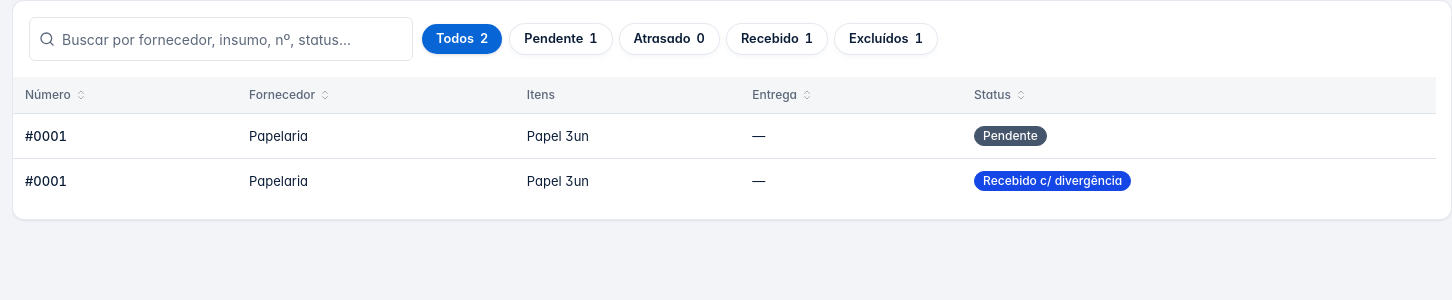
Test: situações de compras contam busca, excluídos e recebidos com divergência
Expected: the button with aria-label "Todos (2)" is shown, [421,23,503,55]
Expected: the button with aria-label "Pendente (1)" is shown, [509,23,612,55]
Step 1. Type "inexistente" into the field → (221, 39), box [29,17,413,61]
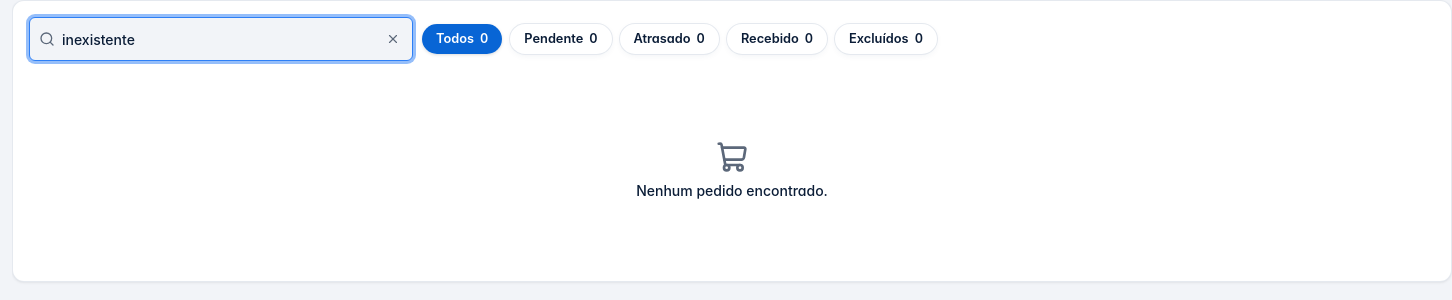
Expected: the button with aria-label "Todos (0)" is shown, [421,23,503,55]
Expected: the button with aria-label "Pendente (0)" is shown, [509,23,612,55]
Expected: the button with aria-label "Recebido (0)" is shown, [726,23,828,55]
